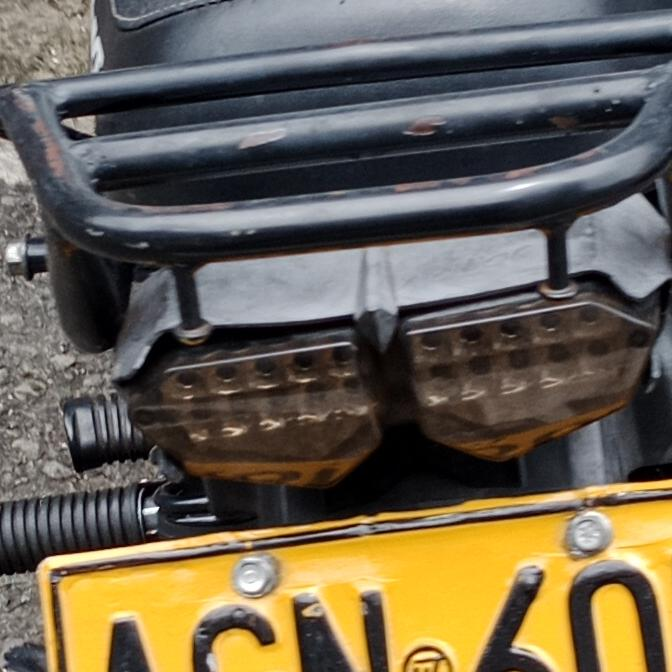plates: (36, 478, 672, 672)
